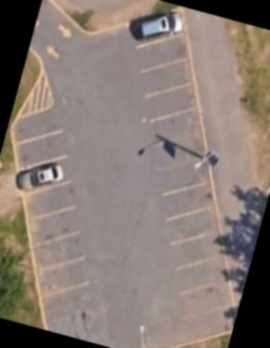parkingspot: (124, 7, 237, 348), (6, 101, 94, 301)
